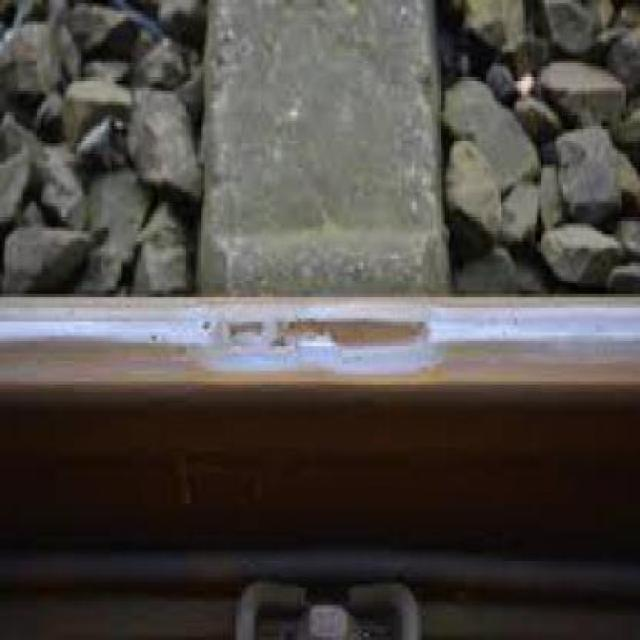defective: (172, 278, 514, 432)
